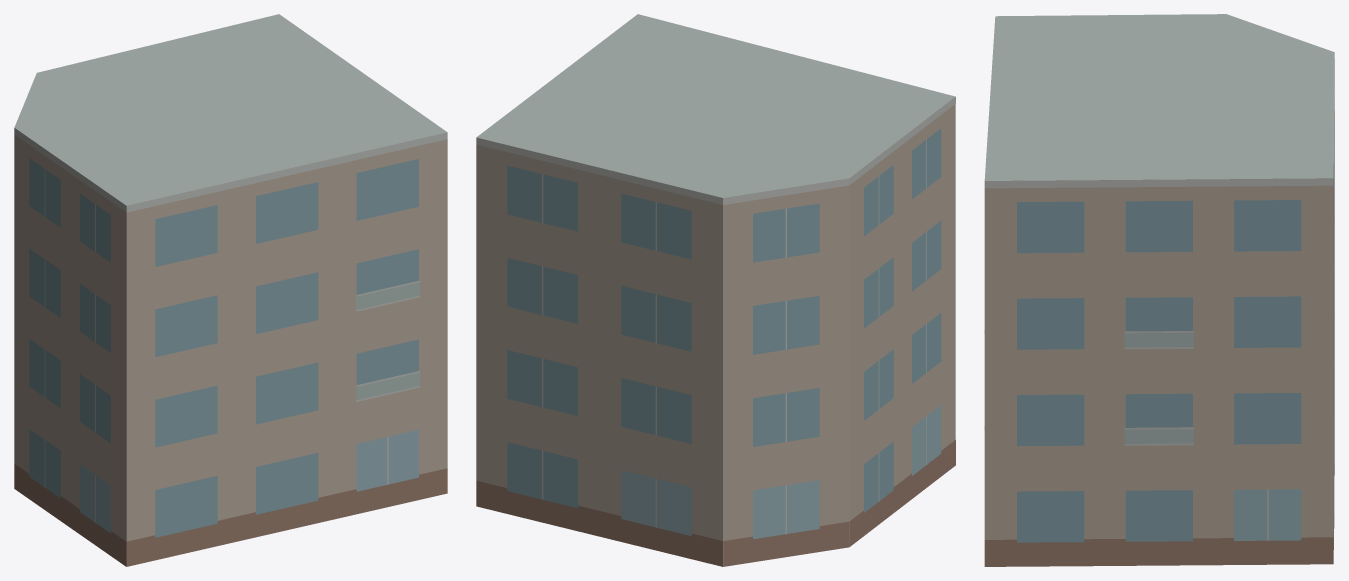
The model's file is survey-upis-32632092.glb.
3 views of the same model, side by side, from view 1: azimuth 30°, elevation 25°; view 2: azimuth 150°, elevation 25°; view 3: azimuth 270°, elevation 25° (orthographic). The views are drawn at different scales.
Parts seen in each view (by area): view 1: survey-upis-32632092.tmp; view 2: survey-upis-32632092.tmp; view 3: survey-upis-32632092.tmp.
Part boxes in pixels (<box>): survey-upis-32632092.tmp: <box>14,14,447,566</box>; survey-upis-32632092.tmp: <box>476,14,955,566</box>; survey-upis-32632092.tmp: <box>984,14,1334,566</box>.
Size of the model in its own units: 11.89 by 12.8 by 10.54.
